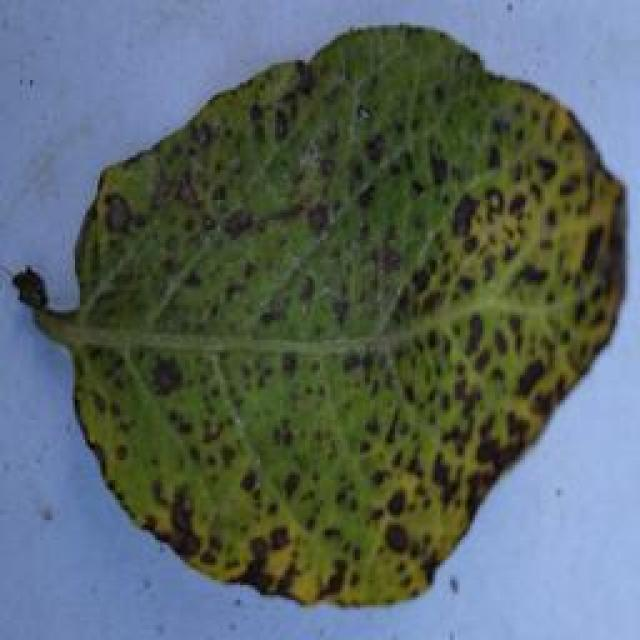Potato_Early_Blight: (17, 25, 622, 604)
